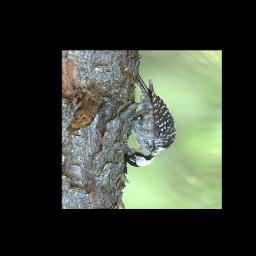Woodpecker: (124, 74, 178, 167)
